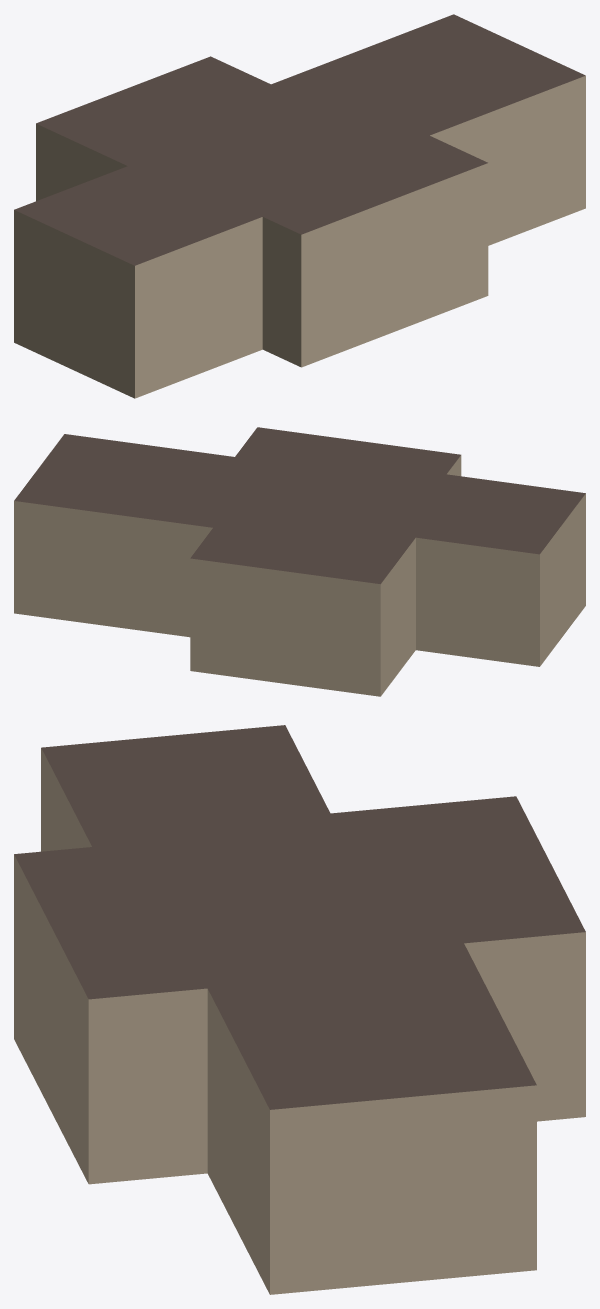
The picture shows the model from 3 angles, top to bottom: view 1: azimuth 30°, elevation 25°; view 2: azimuth 150°, elevation 25°; view 3: azimuth 270°, elevation 25°; orthographic projection. The views are drawn at different scales.
Visible parts, largest first — view 1: HP-w369342449; view 2: HP-w369342449; view 3: HP-w369342449.
Part boxes in pixels (x1,y1,x2,y2): HP-w369342449: (14, 14, 585, 398); HP-w369342449: (14, 427, 585, 696); HP-w369342449: (14, 725, 585, 1294).
Bounding box in the file's own units: 40.16 × 9 × 25.22.
